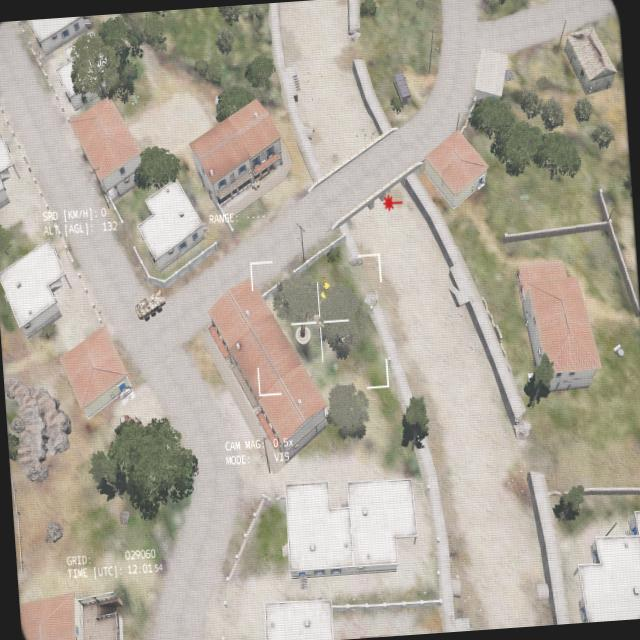apc: (132, 288, 166, 322)
